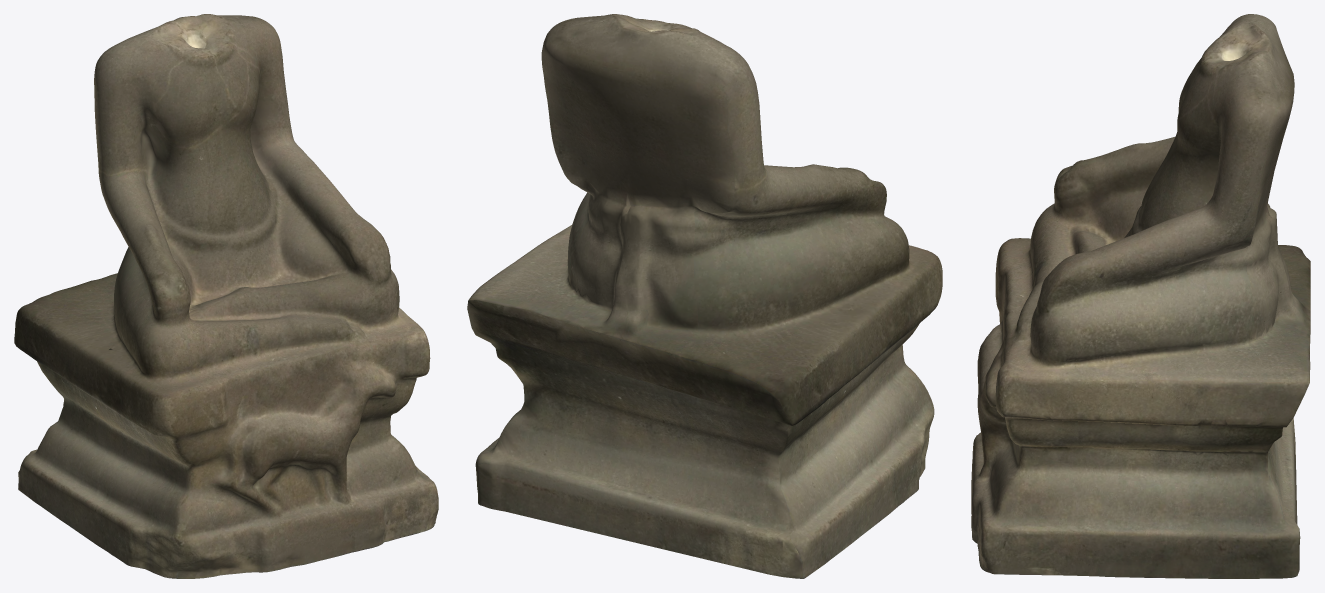
File: 12_thanphuonghuong_vayu_final.glb
The picture shows the model from 3 angles, left to right: view 1: azimuth 30°, elevation 25°; view 2: azimuth 150°, elevation 25°; view 3: azimuth 270°, elevation 25°; orthographic projection. The views are drawn at different scales.
Size of the model in its own units: 0.3364 by 0.4862 by 0.3187.
Materials: 1 (1 with a texture image).
